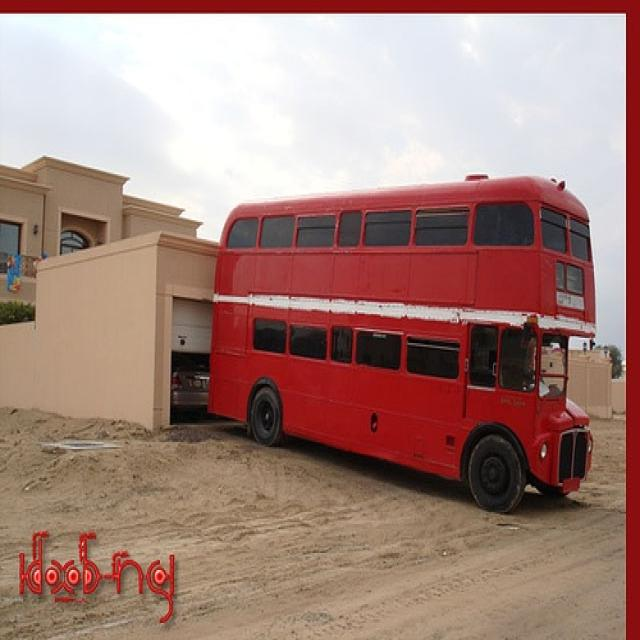bus: (206, 172, 598, 514)
